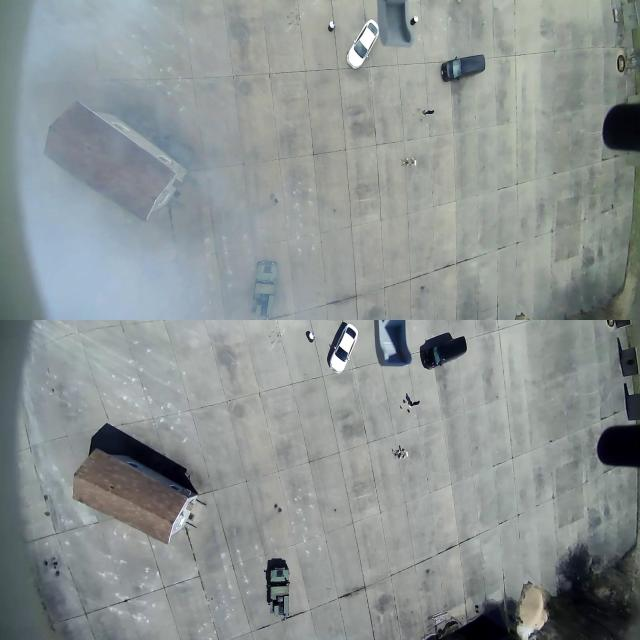car: (346, 19, 380, 69), (327, 322, 358, 373), (420, 336, 463, 370), (439, 53, 486, 81)
